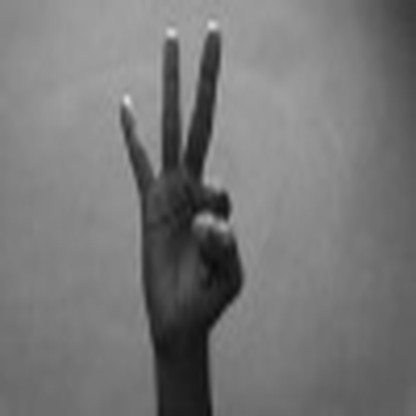f: (104, 18, 257, 344)
